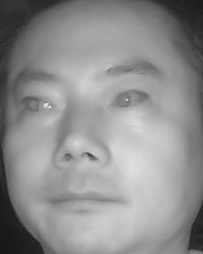eye: (107, 88, 150, 111), (18, 92, 57, 115)
mouth: (46, 180, 130, 220)
